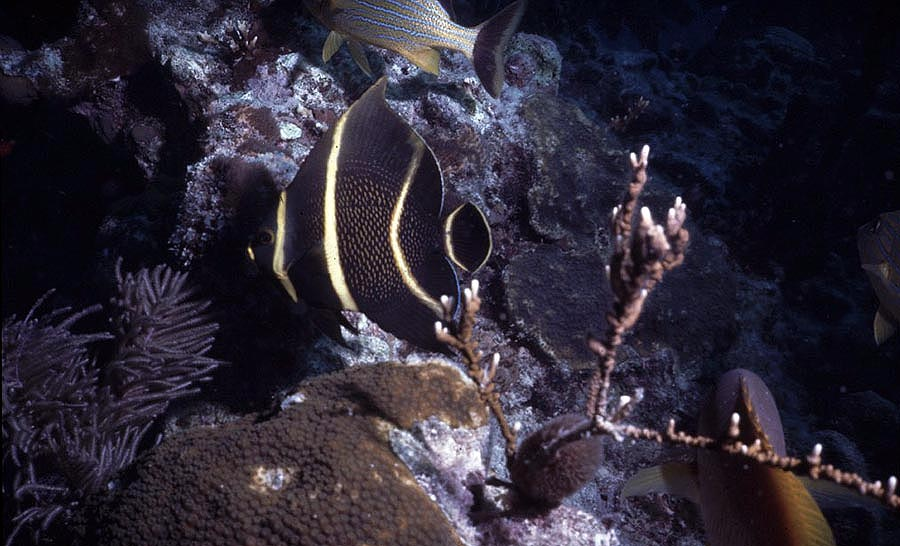Pomacanthus_paru: (229, 75, 540, 376)
